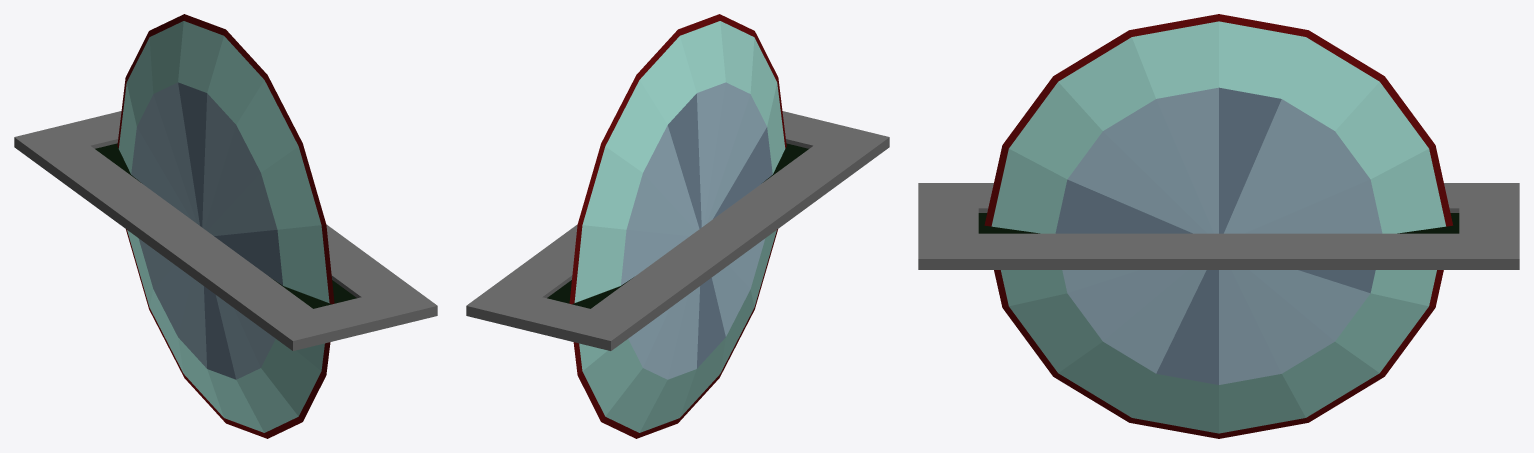
File: ground_trap.fbx
The picture shows the model from 3 angles, left to right: view 1: azimuth 30°, elevation 25°; view 2: azimuth 150°, elevation 25°; view 3: azimuth 270°, elevation 25°; orthographic projection. The views are drawn at different scales.
Parts seen in each view (by area): view 1: Circle, Zemin; view 2: Circle, Zemin; view 3: Circle, Zemin.
Boxes of the visible parts, box(x1,y1,x2,y2) form: Circle: box(117, 14, 334, 438); Zemin: box(14, 111, 437, 350); Circle: box(569, 14, 786, 438); Zemin: box(466, 111, 889, 350); Circle: box(984, 14, 1453, 438); Zemin: box(918, 183, 1519, 269).
Bounding box in the file's own units: 60 × 156 × 200.
1 material, 1 textured.
